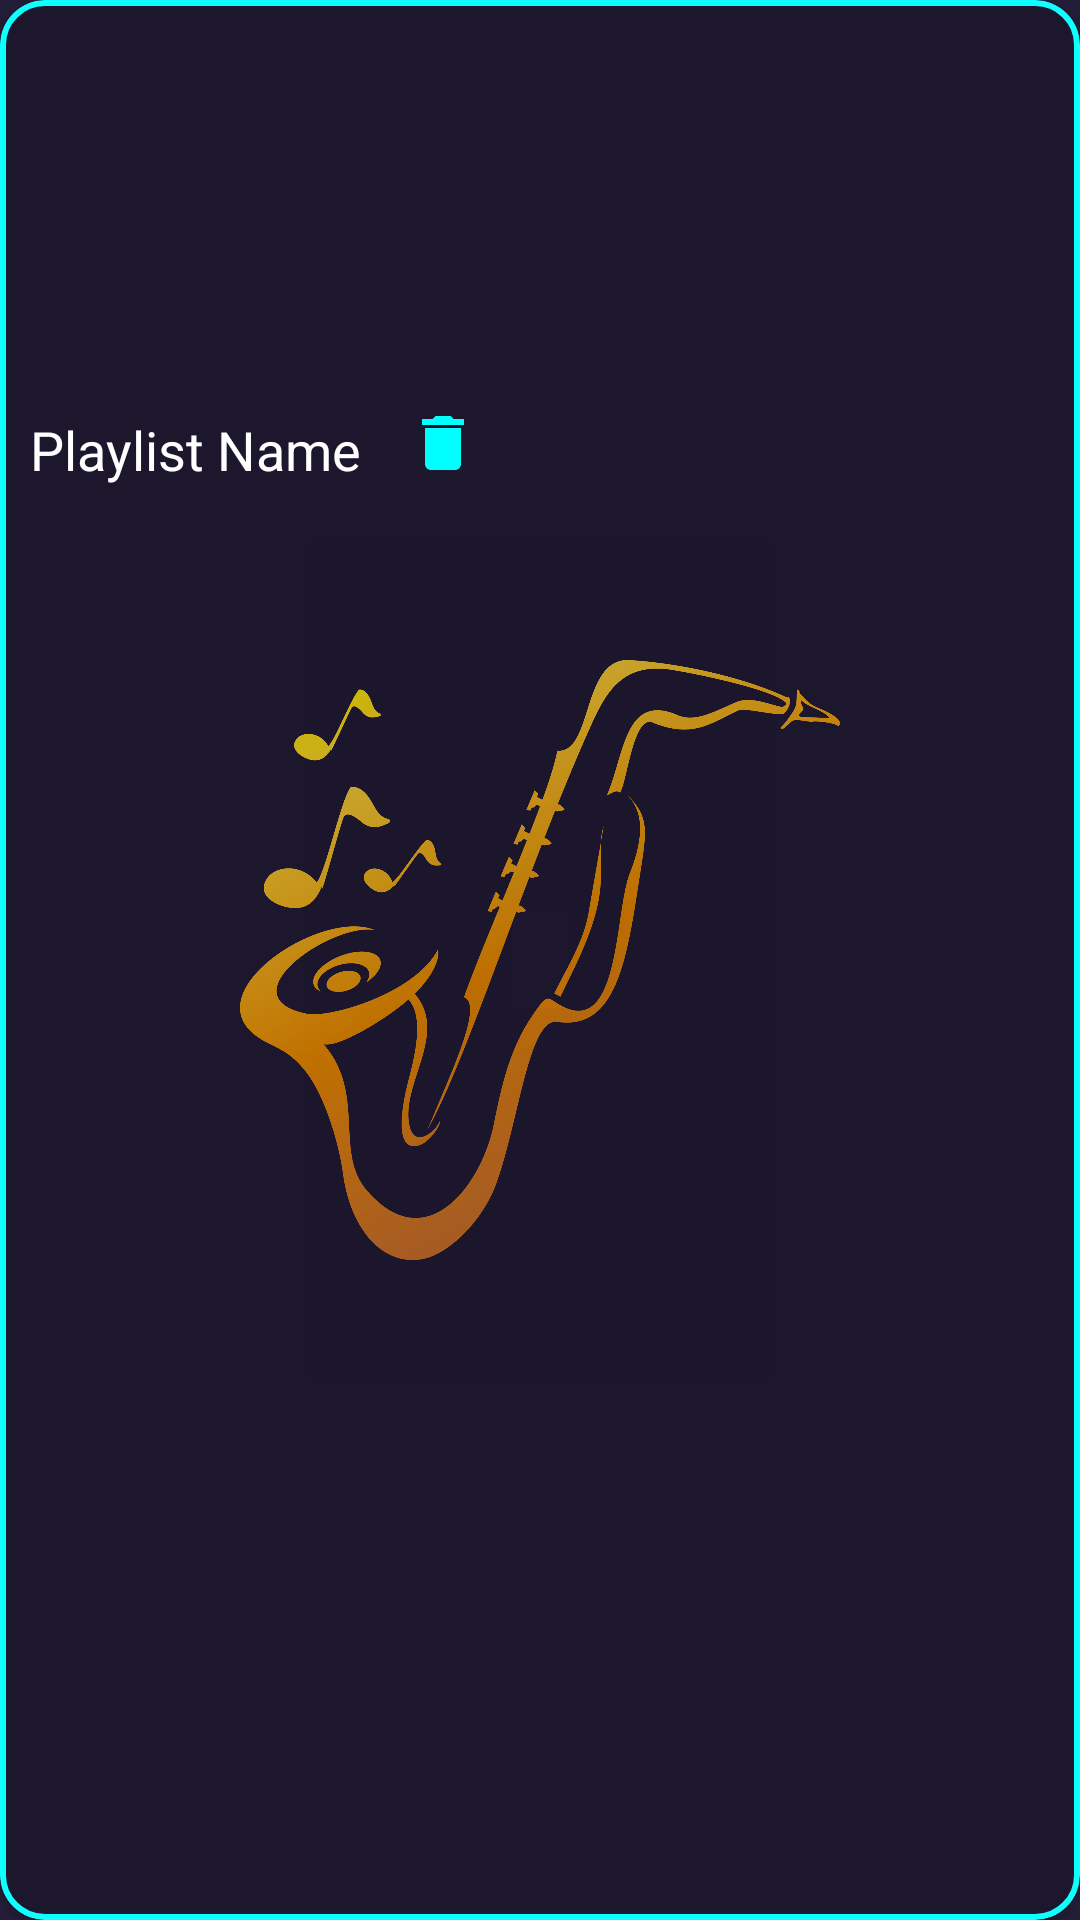

Screen size 1080x1920. Icon name, then its center in pixels as point (x, y):
Playlist Delete: point (443, 443)
